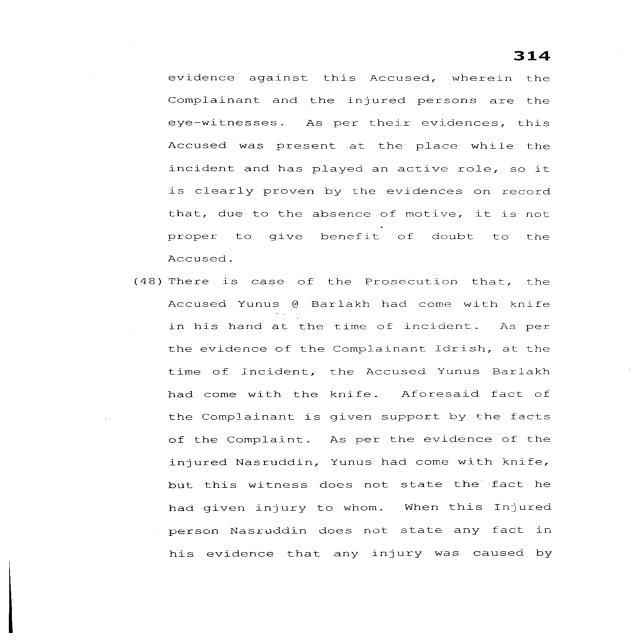page-number: (431, 3, 634, 70)
